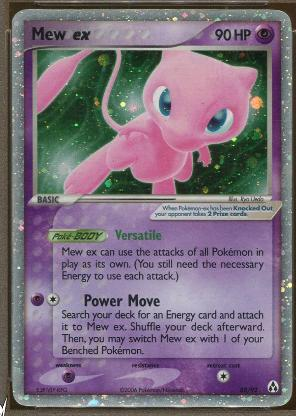Card: (9, 8, 293, 410)
